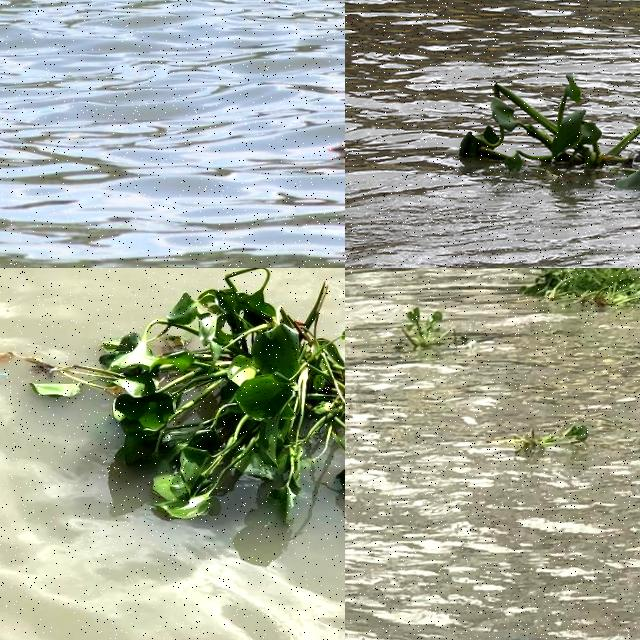water-hyacinth: (1, 269, 346, 555), (449, 59, 640, 207), (524, 269, 640, 319), (493, 412, 593, 461), (394, 309, 460, 354)
